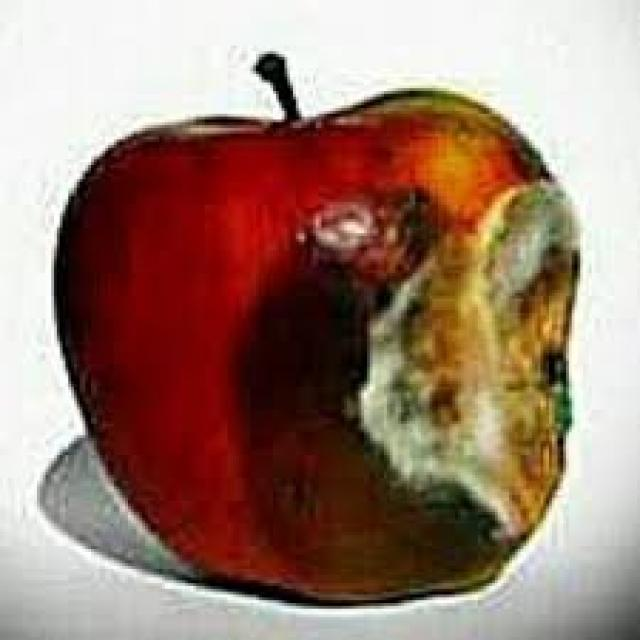organic waste: (51, 51, 578, 600)
